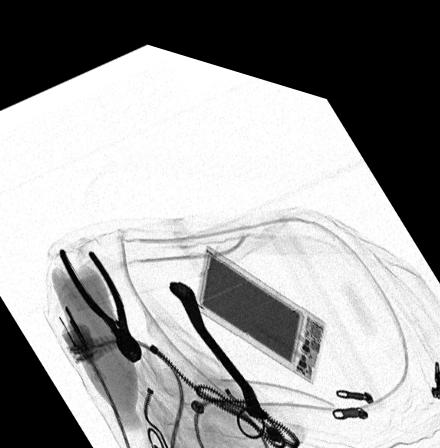Pliers: (58, 244, 141, 355)
Powerbank: (194, 232, 326, 366)
Wrench: (167, 269, 267, 404)
